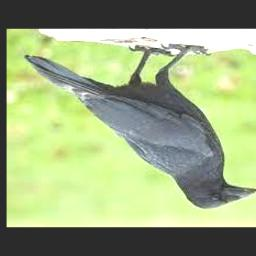Crow: (25, 44, 256, 209)
